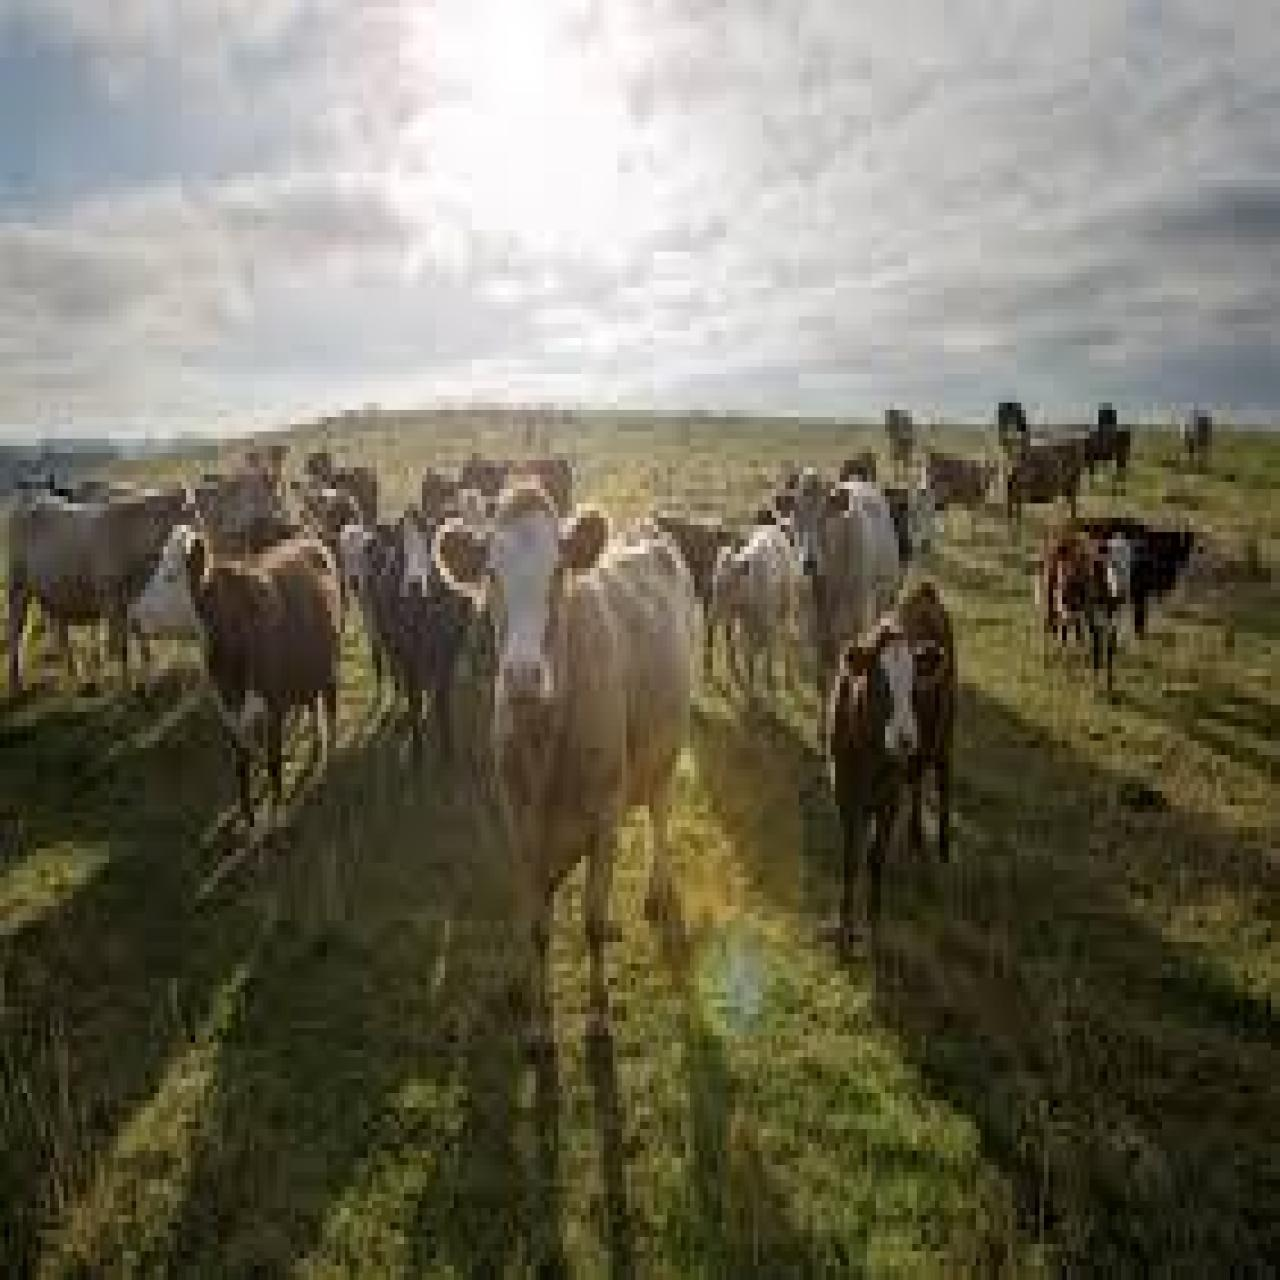cow: (441, 489, 699, 1057), (131, 529, 340, 845), (824, 590, 960, 956), (5, 497, 196, 690), (771, 468, 899, 661), (377, 511, 445, 741), (1044, 529, 1135, 687), (1003, 435, 1084, 536), (926, 442, 1003, 536)
